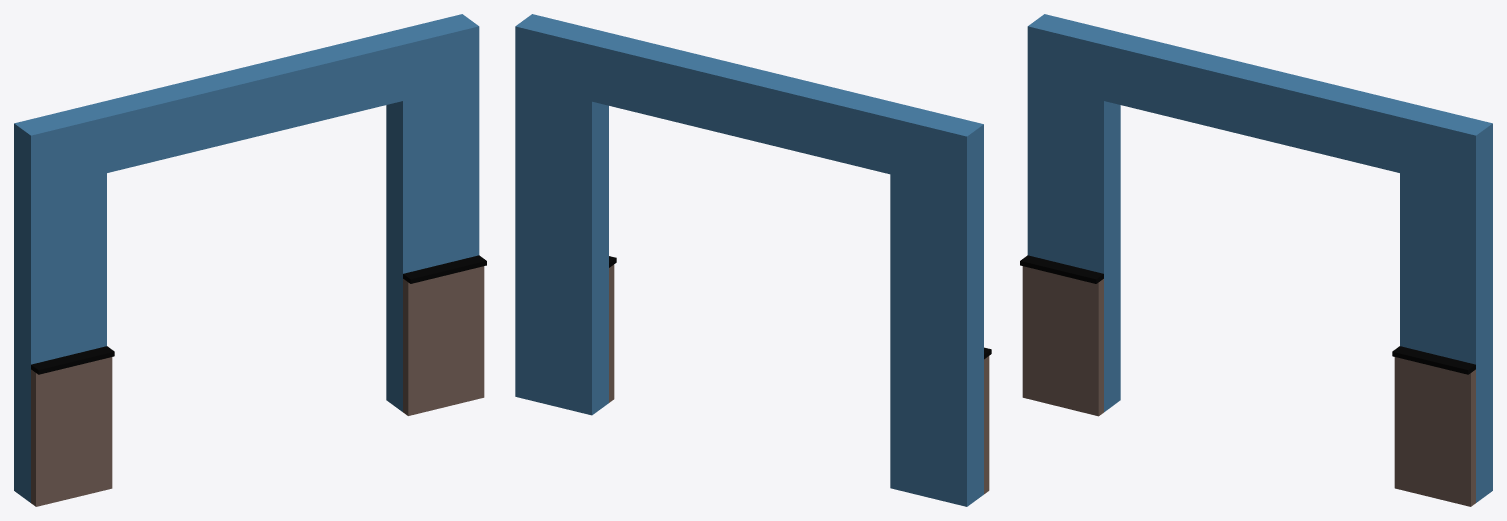
Rendered from P_Wall_Doors_2.fbx.
The picture shows the model from 3 angles, left to right: view 1: azimuth 30°, elevation 25°; view 2: azimuth 150°, elevation 25°; view 3: azimuth 330°, elevation 25°; orthographic projection.
Visible parts, largest first — view 1: P_Wall_Doors_2; view 2: P_Wall_Doors_2; view 3: P_Wall_Doors_2.
Boxes of the visible parts, left/top/right/bottom form: P_Wall_Doors_2: left=14, top=14, right=486, bottom=506; P_Wall_Doors_2: left=515, top=14, right=991, bottom=506; P_Wall_Doors_2: left=1020, top=14, right=1492, bottom=506.
Bounding box in the file's own units: 2000 × 189 × 1568.
